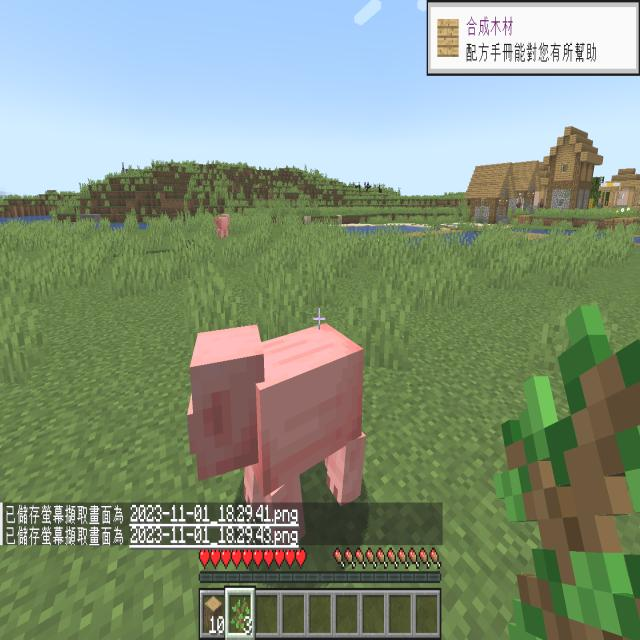pig: (168, 299, 386, 563), (208, 204, 242, 248)
